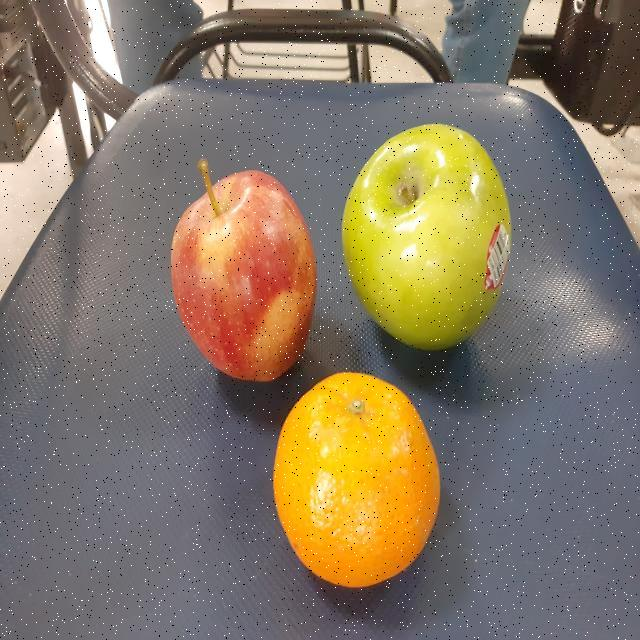Apel Gala: (170, 147, 320, 386)
Apel Granny Smith: (340, 115, 514, 359)
Jeruk Mandarin: (270, 365, 444, 590)
